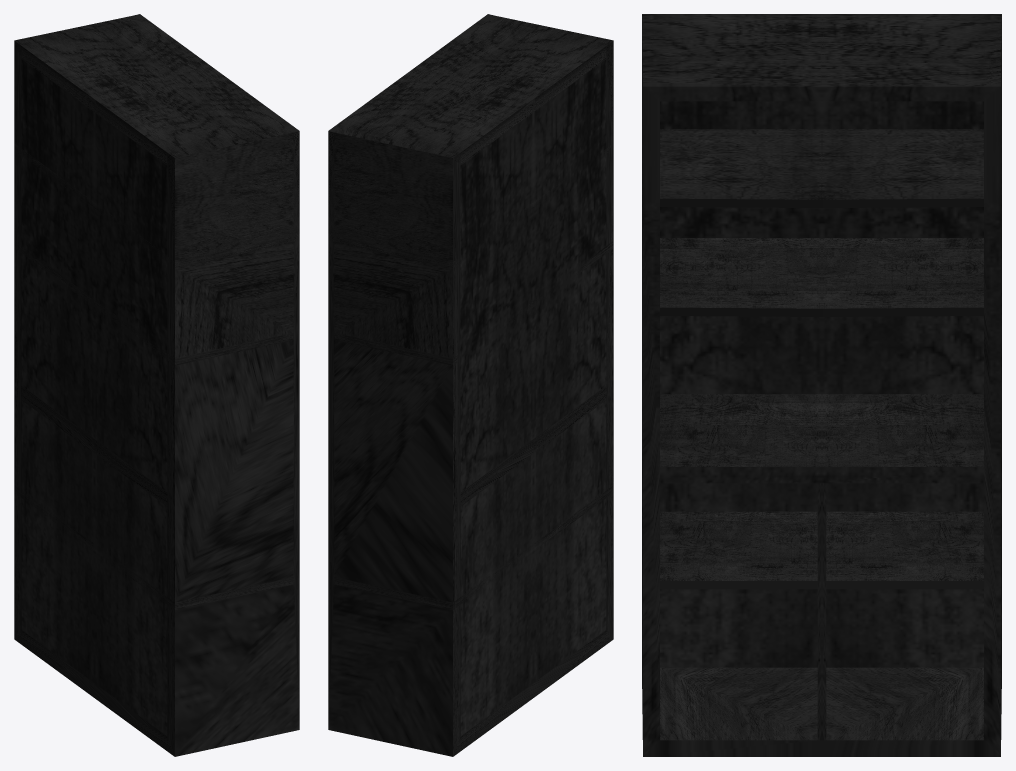
The model's file is Kast_Hull.fbx.
The picture shows the model from 3 angles, left to right: view 1: azimuth 30°, elevation 25°; view 2: azimuth 150°, elevation 25°; view 3: azimuth 270°, elevation 25°; orthographic projection. The views are drawn at different scales.
Visible parts, largest first — view 1: Kast; view 2: Kast; view 3: Kast.
Part boxes in pixels (x1,y1,x2,y2): Kast: (14, 14, 299, 756); Kast: (328, 14, 613, 756); Kast: (642, 14, 1001, 756).
Bounding box in the file's own units: 81.05 × 372 × 180.
